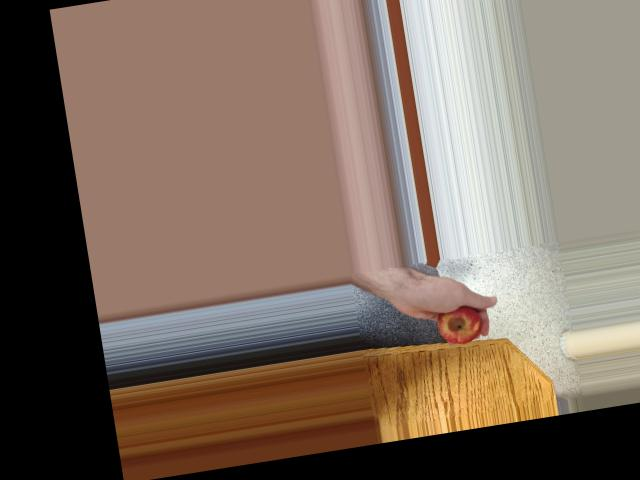apple: (432, 298, 487, 348)
